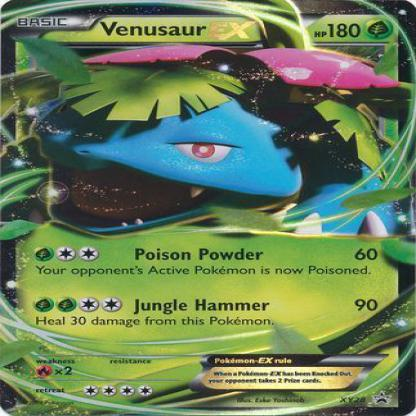Venusaur: (1, 53, 416, 239)
